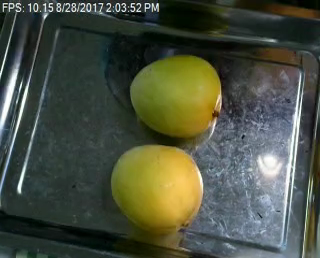Mango: (107, 140, 208, 234), (125, 49, 229, 140)
